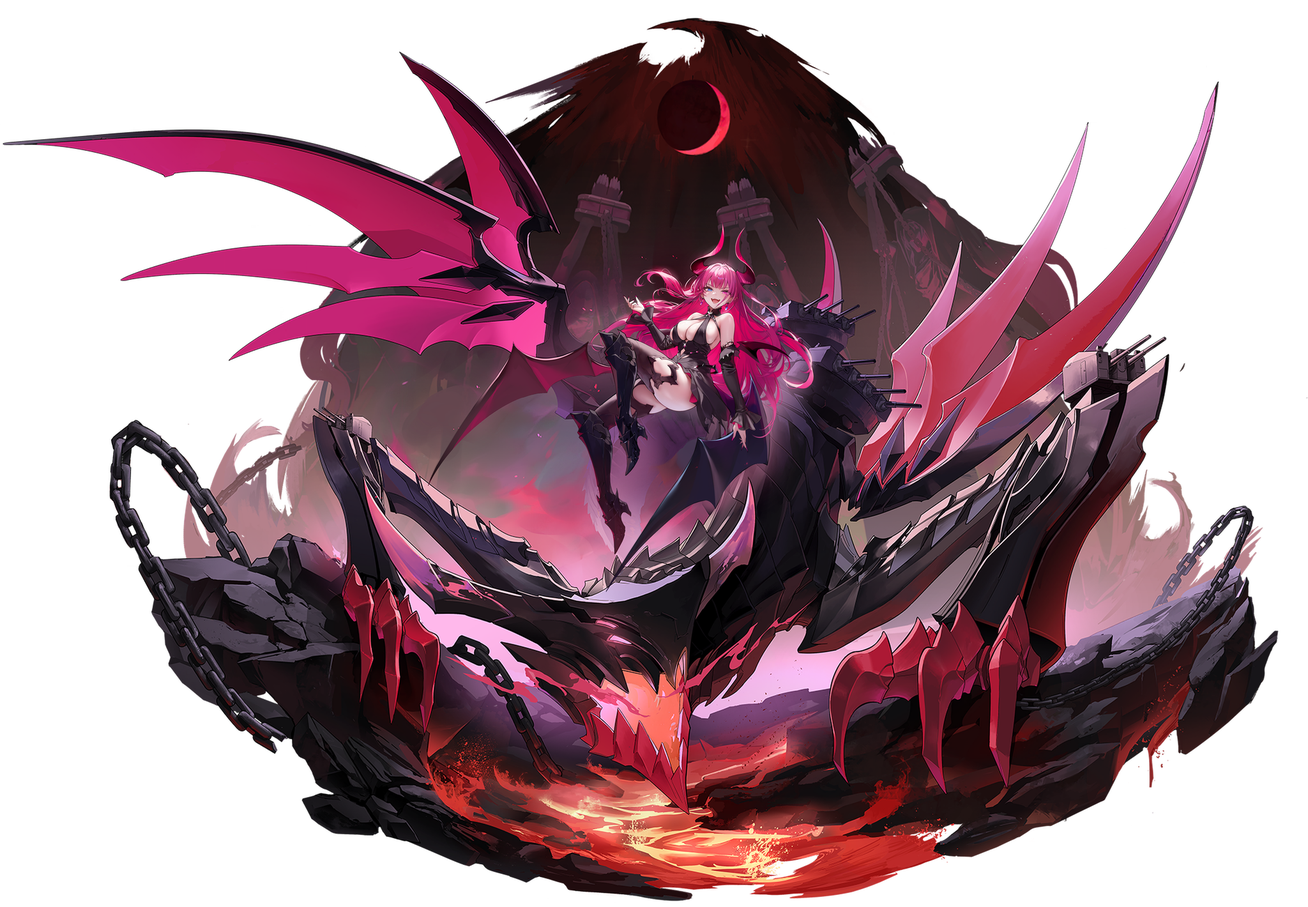person: (586, 217, 876, 690)
